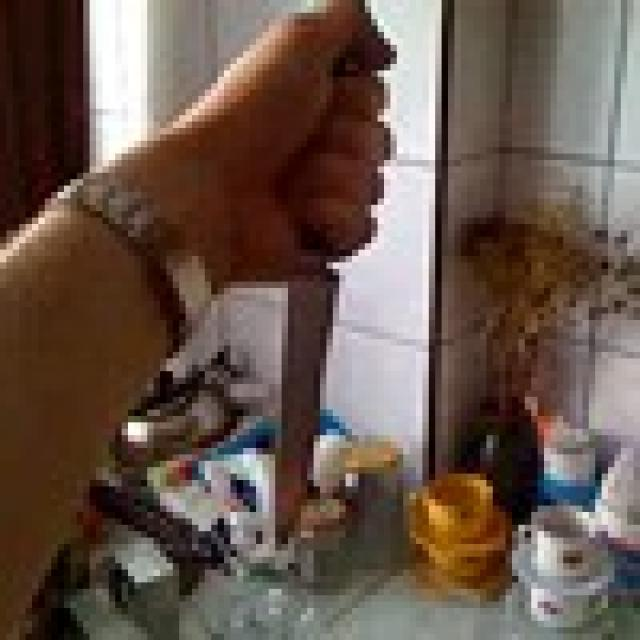Knife: (268, 250, 346, 550)
